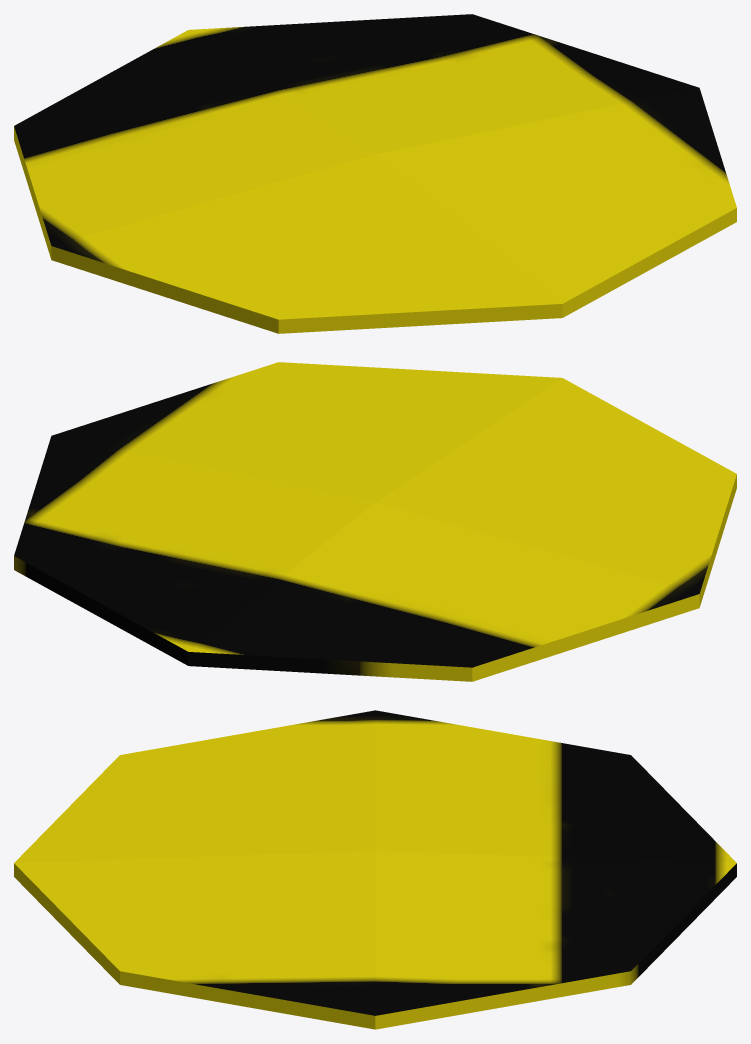
Rendered from Bueiro.fbx.
3 views of the same model, one above another, from view 1: azimuth 30°, elevation 25°; view 2: azimuth 150°, elevation 25°; view 3: azimuth 270°, elevation 25° (orthographic). The views are drawn at different scales.
Parts seen in each view (by area): view 1: Cylinder; view 2: Cylinder; view 3: Cylinder.
Boxes of the visible parts, x1,y1,x2,y2 form: Cylinder: (14, 14, 736, 333); Cylinder: (14, 362, 736, 681); Cylinder: (14, 710, 736, 1029).
Bounding box in the file's own units: 102 × 4.03 × 102.
